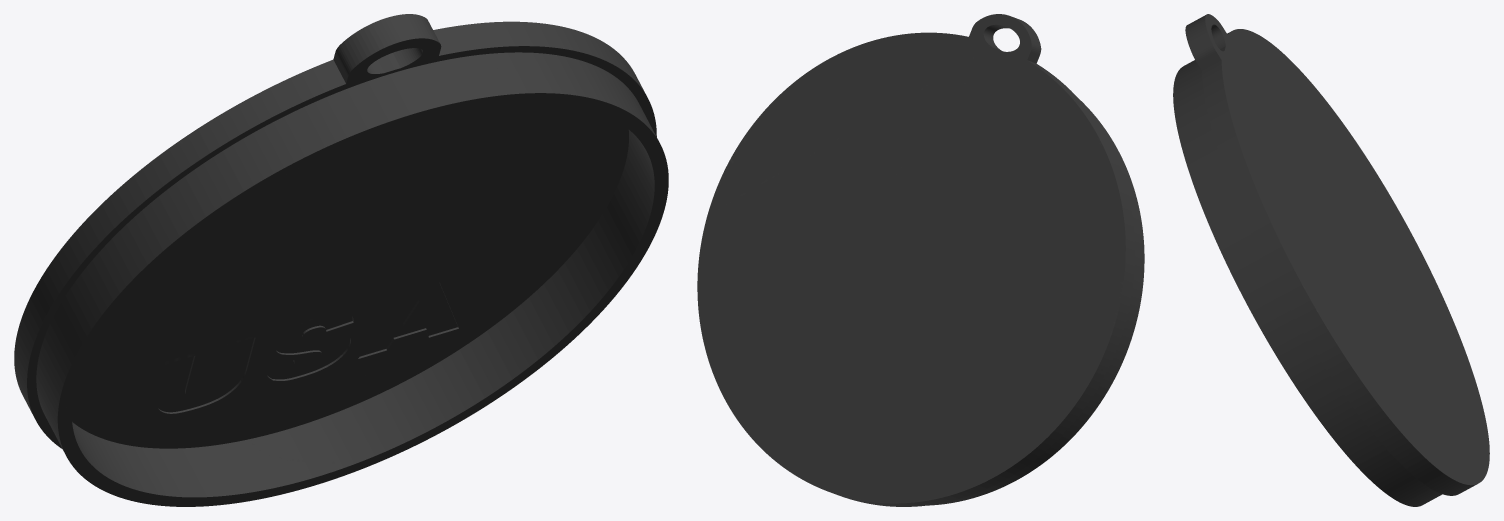
The model's file is 62mmlenscapusa.glb.
The picture shows the model from 3 angles, left to right: view 1: azimuth 30°, elevation 25°; view 2: azimuth 150°, elevation 25°; view 3: azimuth 270°, elevation 25°; orthographic projection. The views are drawn at different scales.
Parts seen in each view (by area): view 1: node_id3; view 2: node_id3; view 3: node_id3.
Part boxes in pixels (x1,y1,x2,y2): node_id3: (14,14,668,506); node_id3: (697,14,1144,506); node_id3: (1173,14,1489,506).
Size of the model in its own units: 0.5123 by 0.4906 by 0.3147.
Materials: 1 (1 with a texture image).
